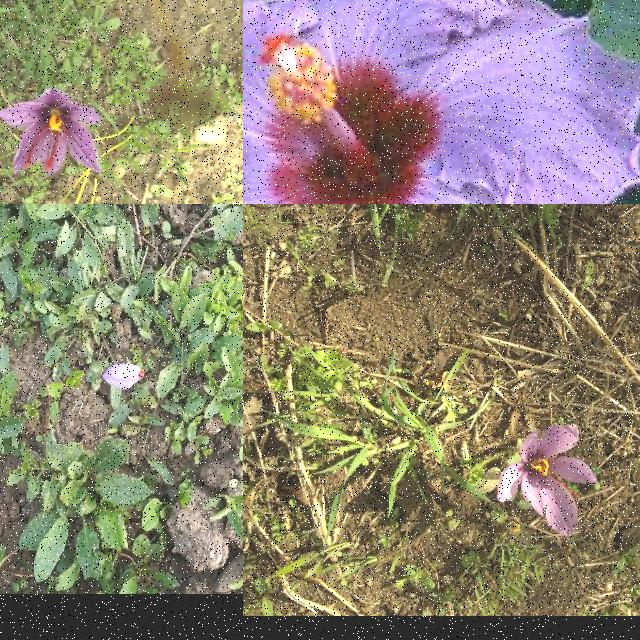flower: (497, 425, 598, 537), (0, 89, 103, 177), (101, 364, 145, 391)
